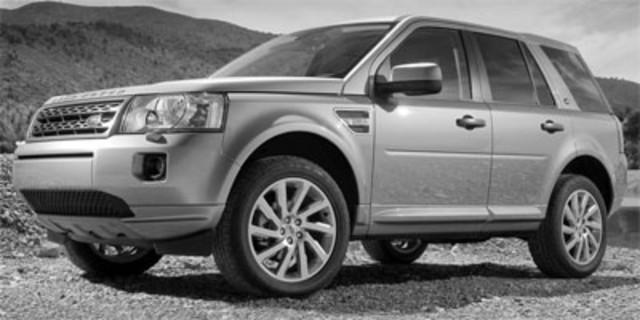car: (15, 16, 627, 299)
